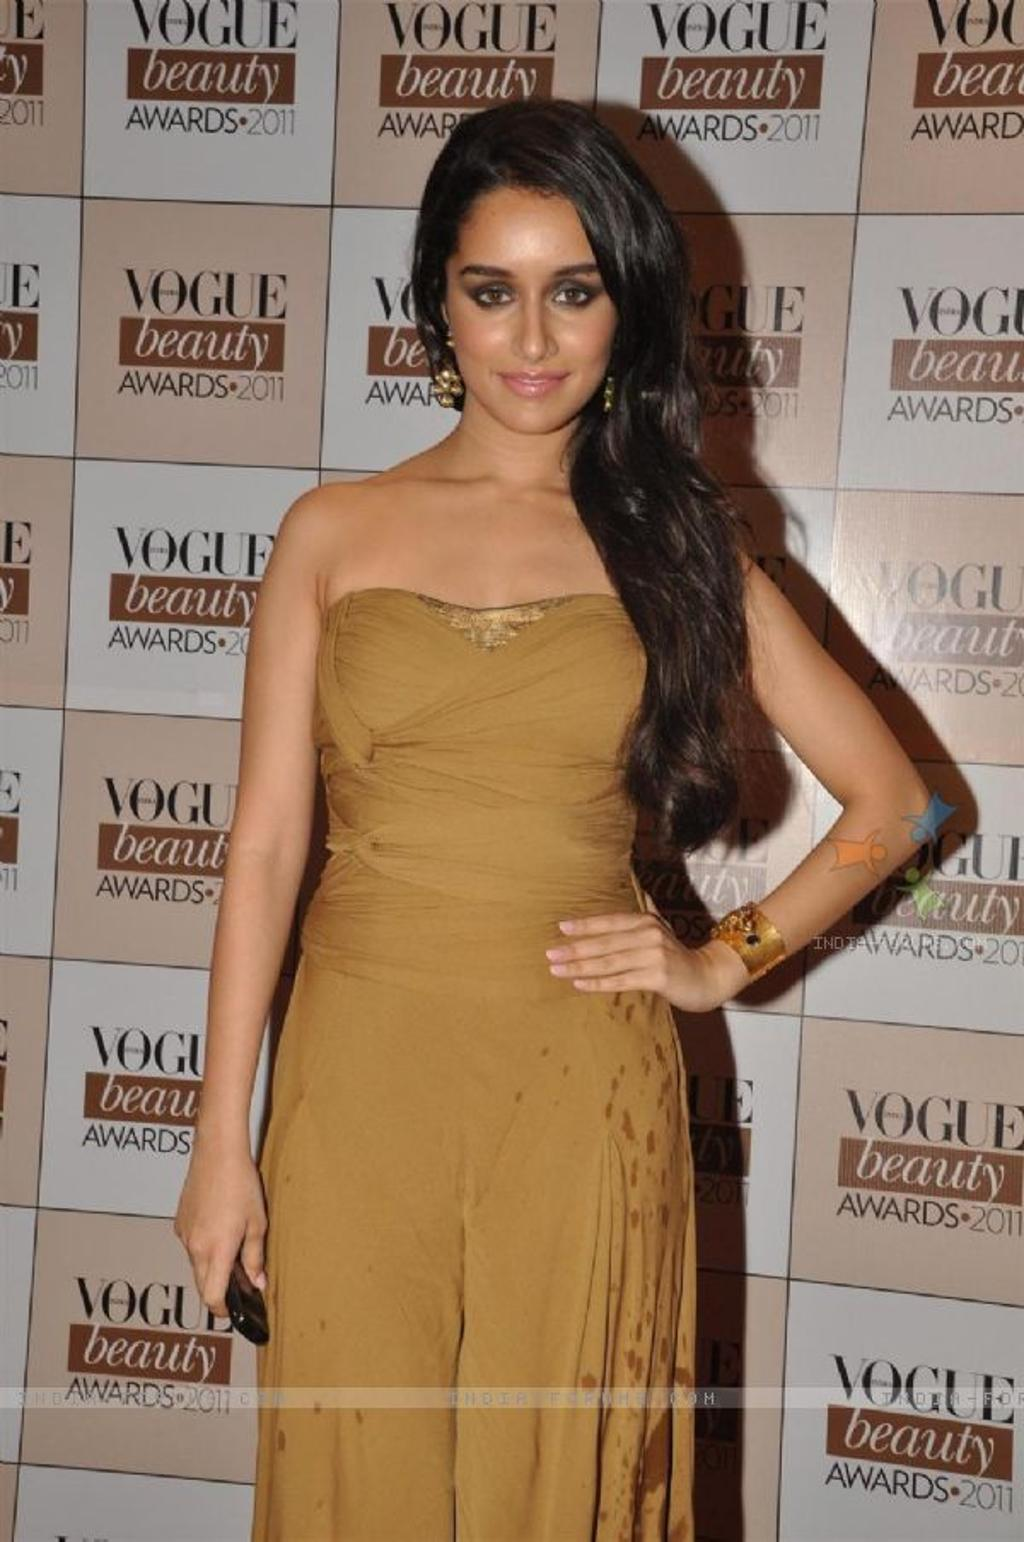face: (446, 184, 624, 434)
